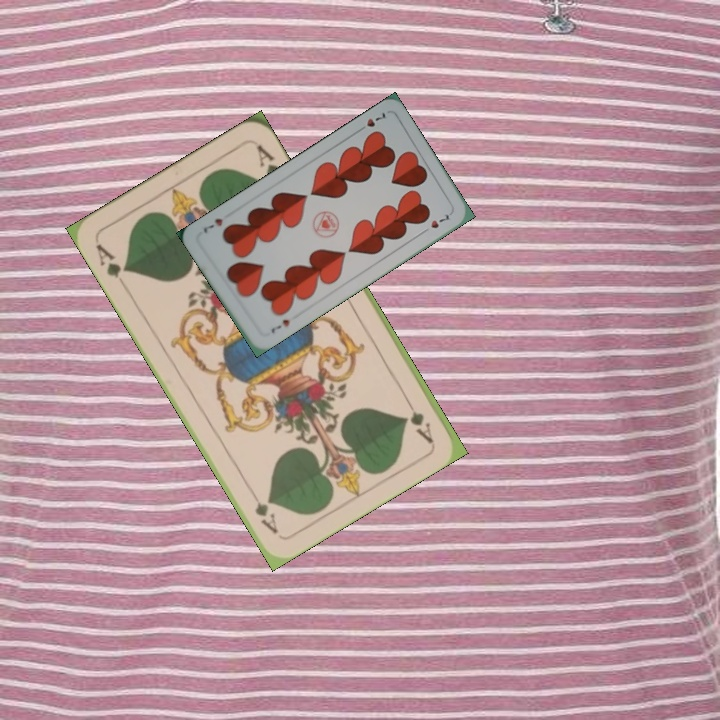GA: (399, 391, 436, 446), (91, 239, 131, 281)
H7: (353, 108, 389, 135), (267, 315, 292, 336)
